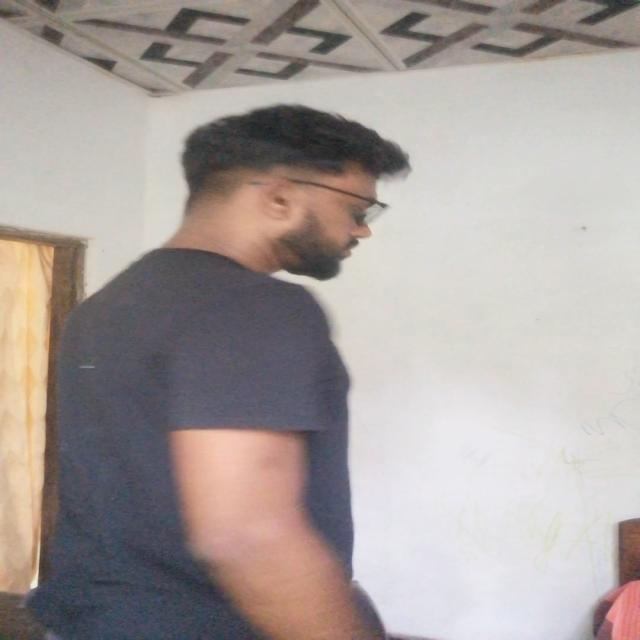Person: (51, 97, 431, 640)
